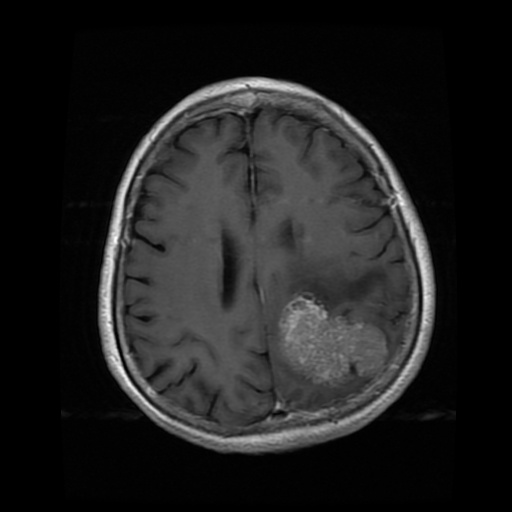meningioma: (279, 295, 386, 384)
